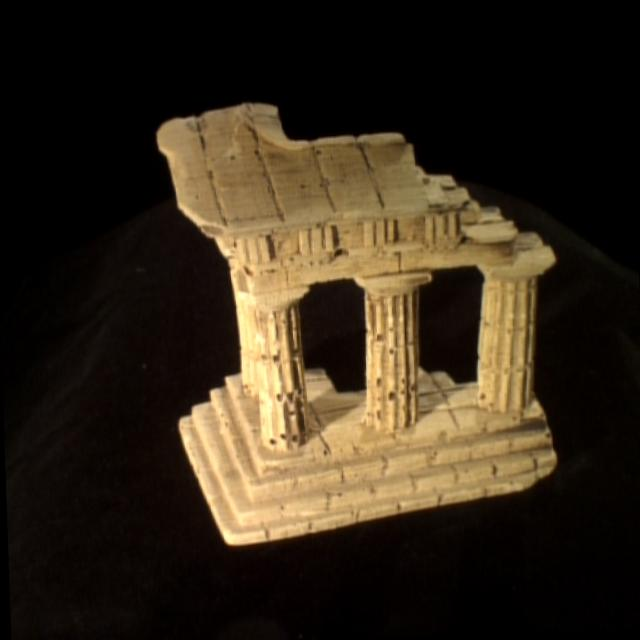Instance-Segmentation: (159, 103, 556, 543)
